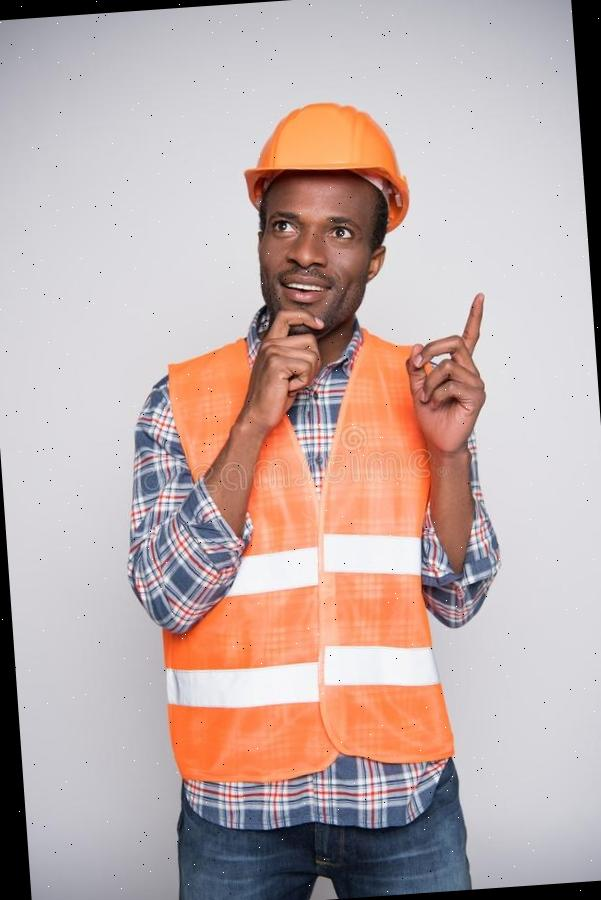helmet: (236, 89, 412, 226)
wear: (144, 334, 455, 791)
